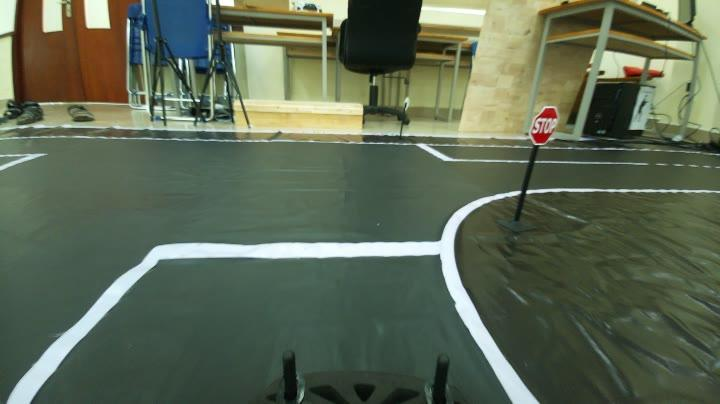stop: (528, 106, 564, 150)
